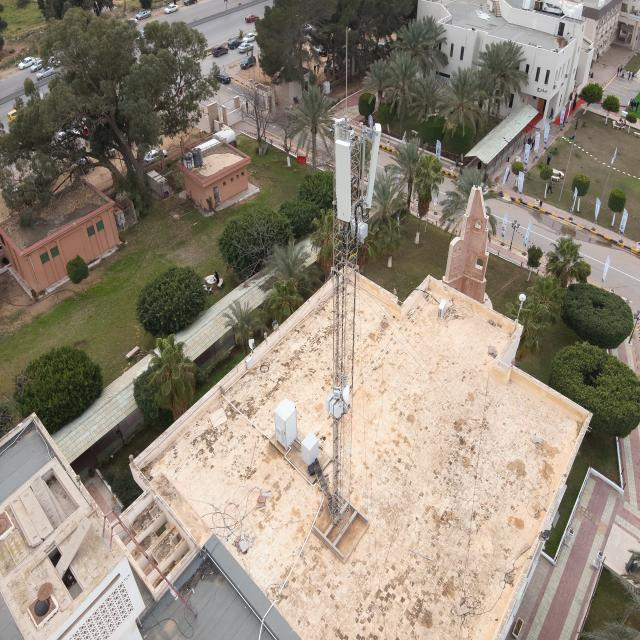antenna: (334, 115, 350, 203), (335, 140, 352, 222), (366, 123, 382, 208)
lighnig-rad: (346, 22, 347, 118)
microware-dish: (331, 382, 355, 408)
power-box: (324, 392, 344, 419)
radio-unit: (342, 216, 369, 245)
